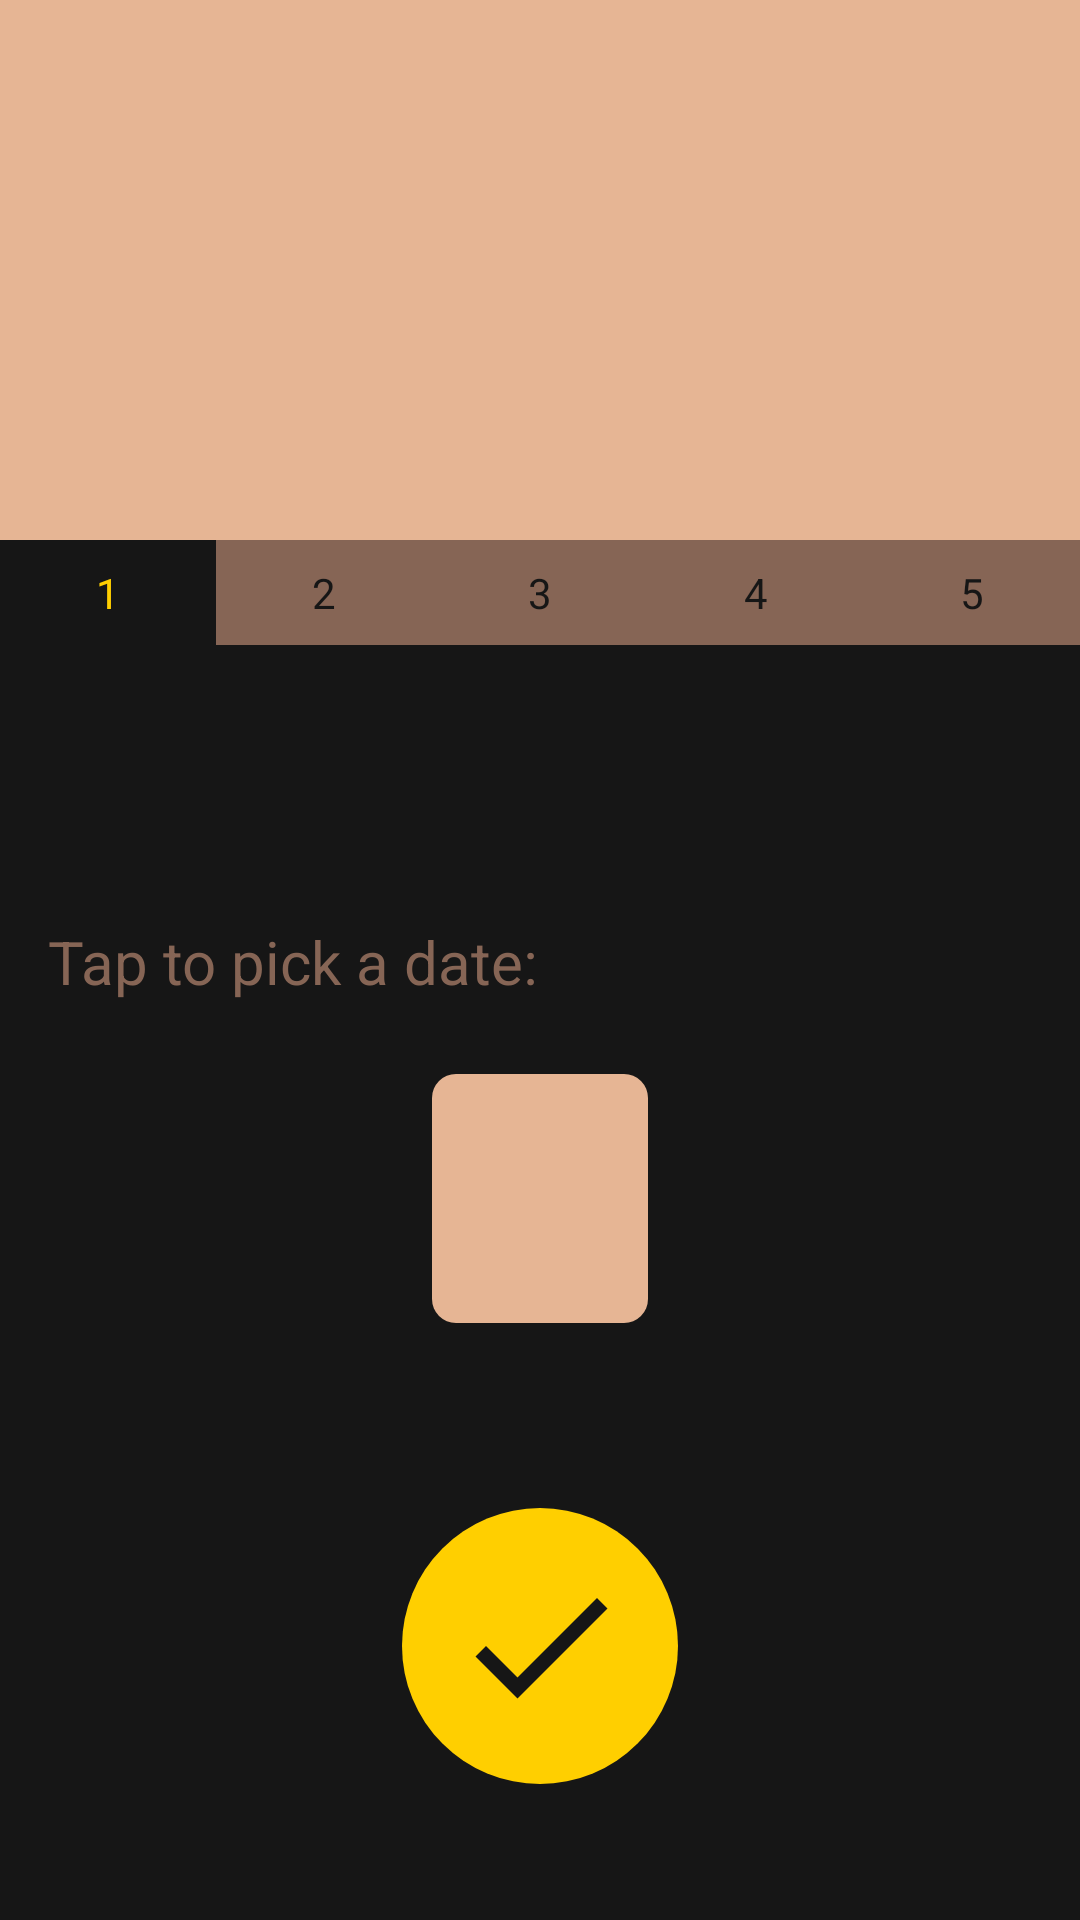

Locate icon controls on the screen. Image size 1080w x 1920h, boxes as bbox(x1, y1, x2, y2).
Done: bbox(402, 1508, 678, 1784)
